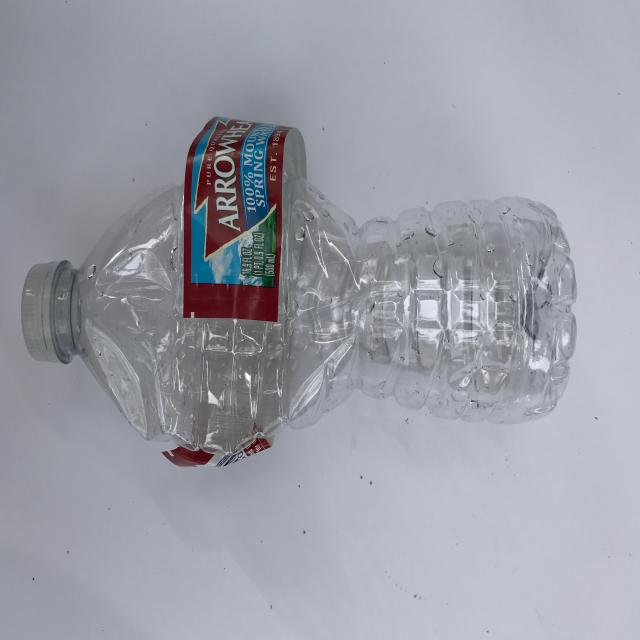plastic: (20, 117, 578, 468)
